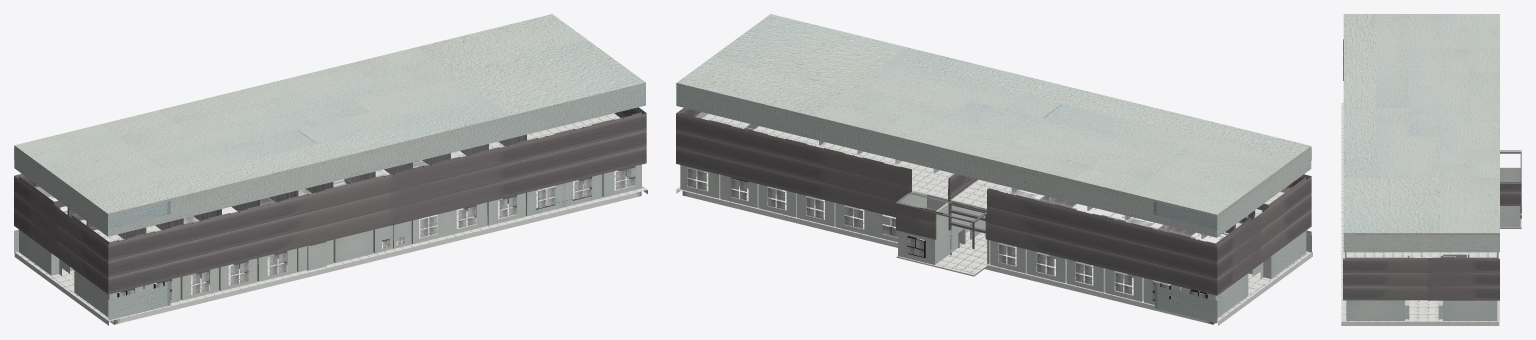
The model's file is A2__in_progress_with_textures.fbx.
3 views of the same model, side by side, from view 1: azimuth 30°, elevation 25°; view 2: azimuth 150°, elevation 25°; view 3: azimuth 270°, elevation 25° (orthographic). The views are drawn at different scales.
Visible parts, largest first — view 1: Roof, First Floor, Ground, Second Floor; view 2: Roof, First Floor, Ground, Second Floor; view 3: Roof, First Floor, Ground, Second Floor.
Part boxes in pixels (x1,y1,x2,y2): Roof: (14, 14, 645, 236); First Floor: (14, 107, 646, 321); Ground: (14, 170, 647, 325); Second Floor: (48, 113, 620, 242); Roof: (676, 14, 1311, 237); First Floor: (676, 85, 1311, 323); Ground: (676, 171, 1312, 325); Second Floor: (702, 113, 1284, 243); Roof: (1343, 14, 1499, 252); First Floor: (1343, 39, 1521, 320); Ground: (1341, 102, 1499, 325); Second Floor: (1346, 150, 1521, 257).
Size of the model in its own units: 9504 by 1871 by 3303.
4 materials, 4 textured.
